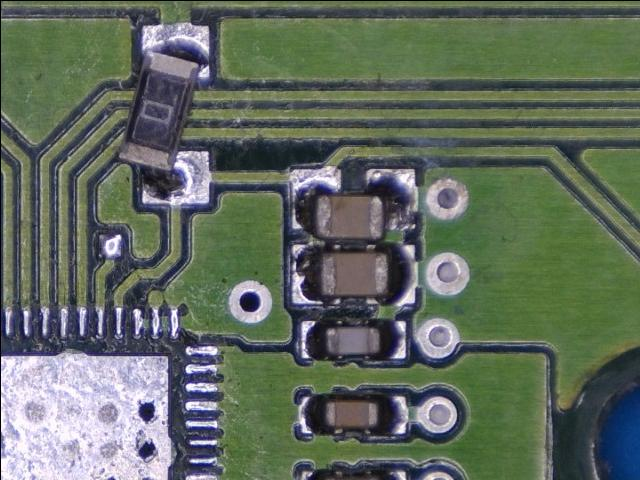Incorrect_installation: (116, 23, 212, 206), (291, 168, 417, 240)
